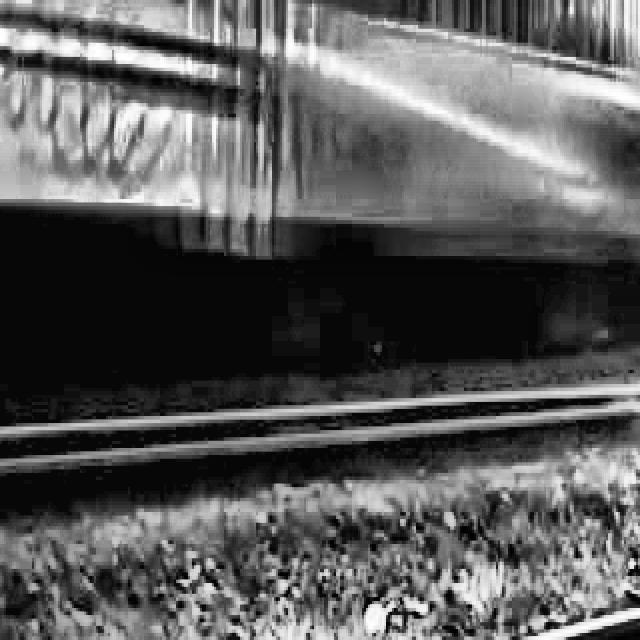Kereta: (204, 0, 640, 260), (0, 0, 246, 277)
